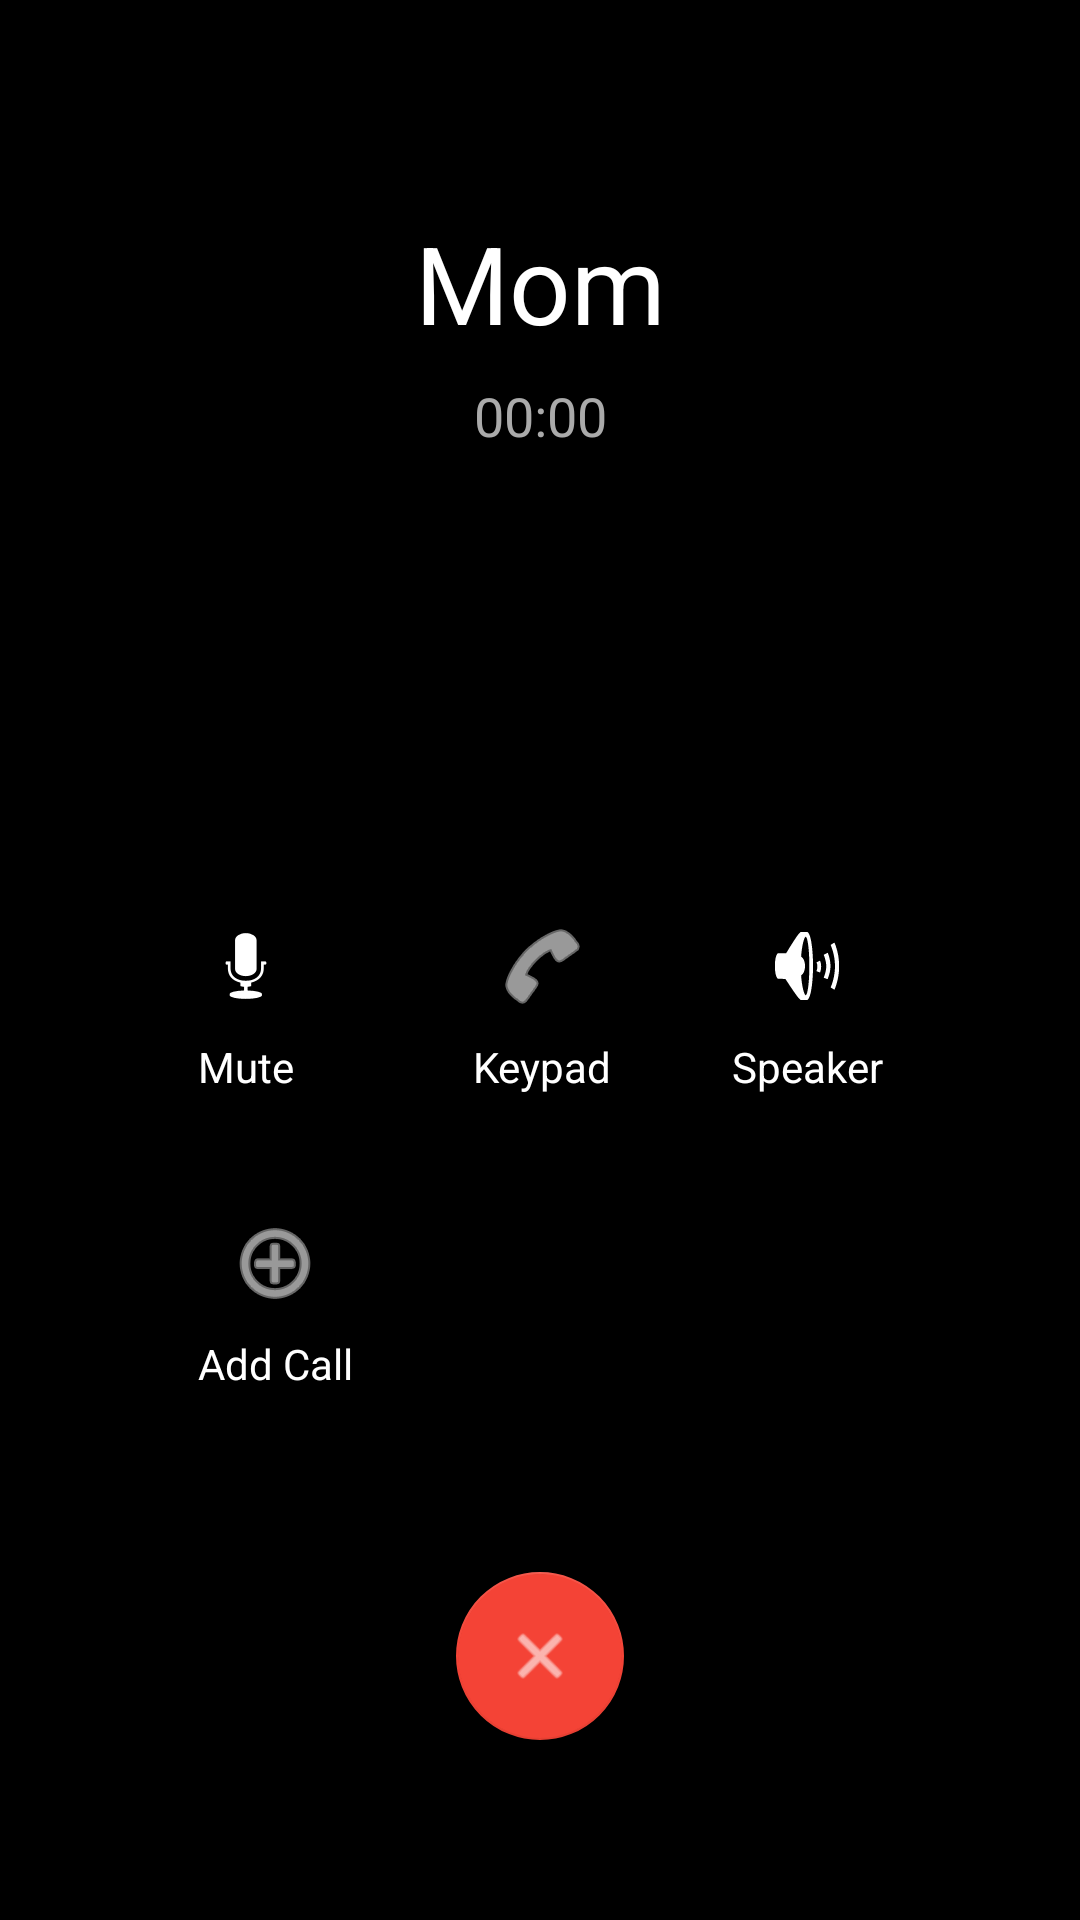

Where icons sit on this 1080w x 1920h app screen, as (x1, y1, x2, y2):
call: (505, 929, 580, 1004)
close clear cancel: (456, 1572, 624, 1740)
speak now: (225, 933, 267, 999)
